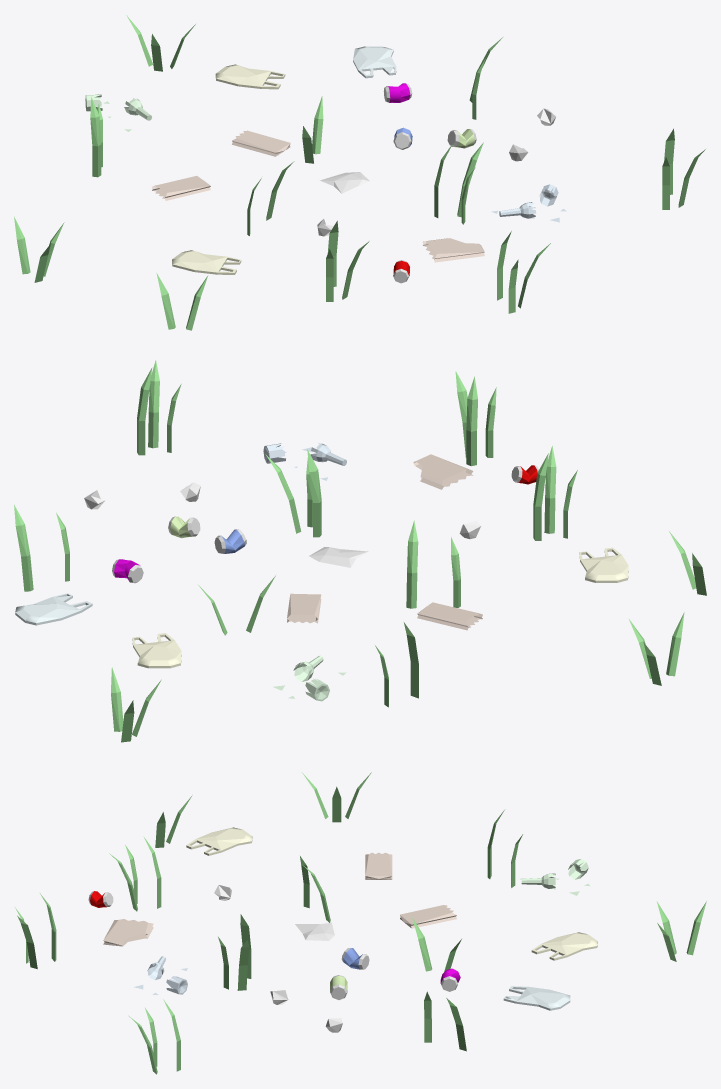
Rendered from Garbage2.fbx.
3 views of the same model, one above another, from view 1: azimuth 30°, elevation 25°; view 2: azimuth 150°, elevation 25°; view 3: azimuth 270°, elevation 25° (orthographic). The views are drawn at different scales.
Visible parts, largest first — view 1: Garbage2; view 2: Garbage2; view 3: Garbage2.
Boxes of the visible parts, bbox=[...] form: Garbage2: bbox=[14, 15, 705, 330]; Garbage2: bbox=[14, 360, 706, 742]; Garbage2: bbox=[15, 772, 706, 1074].
Bounding box in the file's own units: 5.17 × 0.7051 × 5.66.
